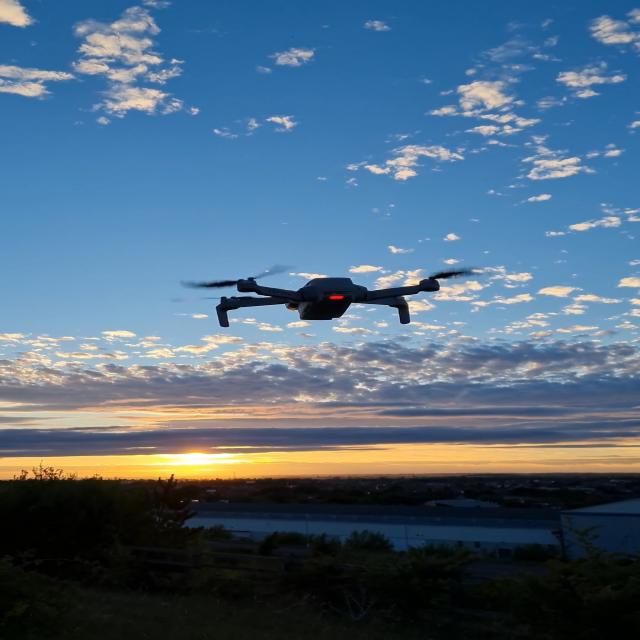Drone: (171, 262, 491, 341)
